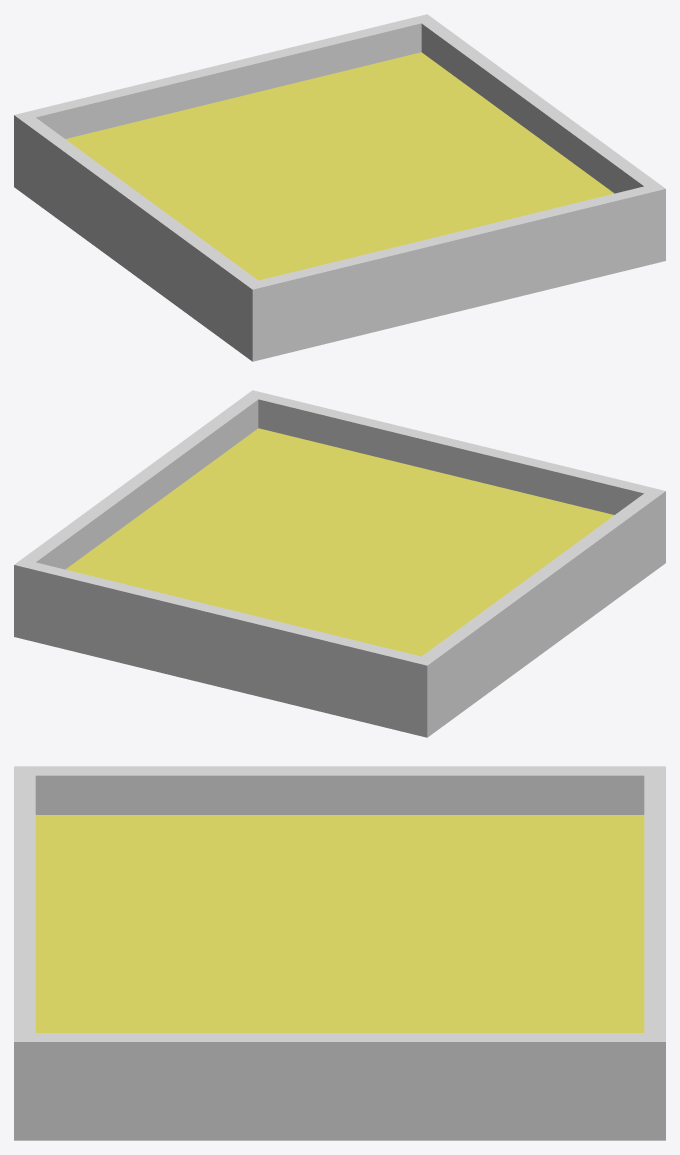
File: Zandbak.fbx
The picture shows the model from 3 angles, top to bottom: view 1: azimuth 30°, elevation 25°; view 2: azimuth 150°, elevation 25°; view 3: azimuth 270°, elevation 25°; orthographic projection. The views are drawn at different scales.
Parts seen in each view (by area): view 1: Cube.001, Cube.002, Cube.004, Cube.005, Cube.003, Cube; view 2: Cube.001, Cube.005, Cube.004, Cube.002, Cube.003, Cube; view 3: Cube.001, Cube.003, Cube.004, Cube, Cube.002, Cube.005.
Part boxes in pixels (left/top/right/bottom): Cube.001: left=65, top=52, right=614, bottom=280; Cube.002: left=259, top=186, right=652, bottom=343; Cube.004: left=14, top=111, right=266, bottom=347; Cube.005: left=28, top=17, right=421, bottom=138; Cube.003: left=414, top=14, right=665, bottom=249; Cube: left=14, top=173, right=665, bottom=361; Cube.001: left=65, top=428, right=614, bottom=656; Cube.005: left=27, top=562, right=420, bottom=719; Cube.004: left=413, top=487, right=665, bottom=723; Cube.002: left=258, top=393, right=651, bottom=514; Cube.003: left=14, top=390, right=265, bottom=625; Cube: left=14, top=549, right=665, bottom=737; Cube.001: left=35, top=815, right=644, bottom=1032; Cube.003: left=14, top=1033, right=665, bottom=1120; Cube.004: left=14, top=766, right=665, bottom=814; Cube: left=14, top=1120, right=665, bottom=1140; Cube.002: left=14, top=775, right=35, bottom=1032; Cube.005: left=644, top=775, right=665, bottom=1032.
Size of the model in its own units: 600 by 100 by 600.
